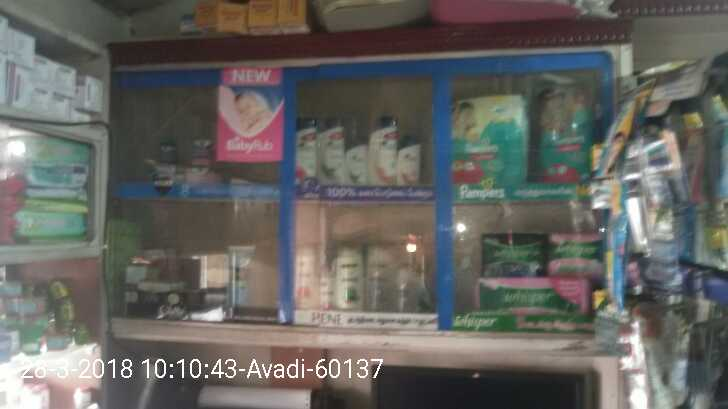vicks: (154, 134, 225, 184)
